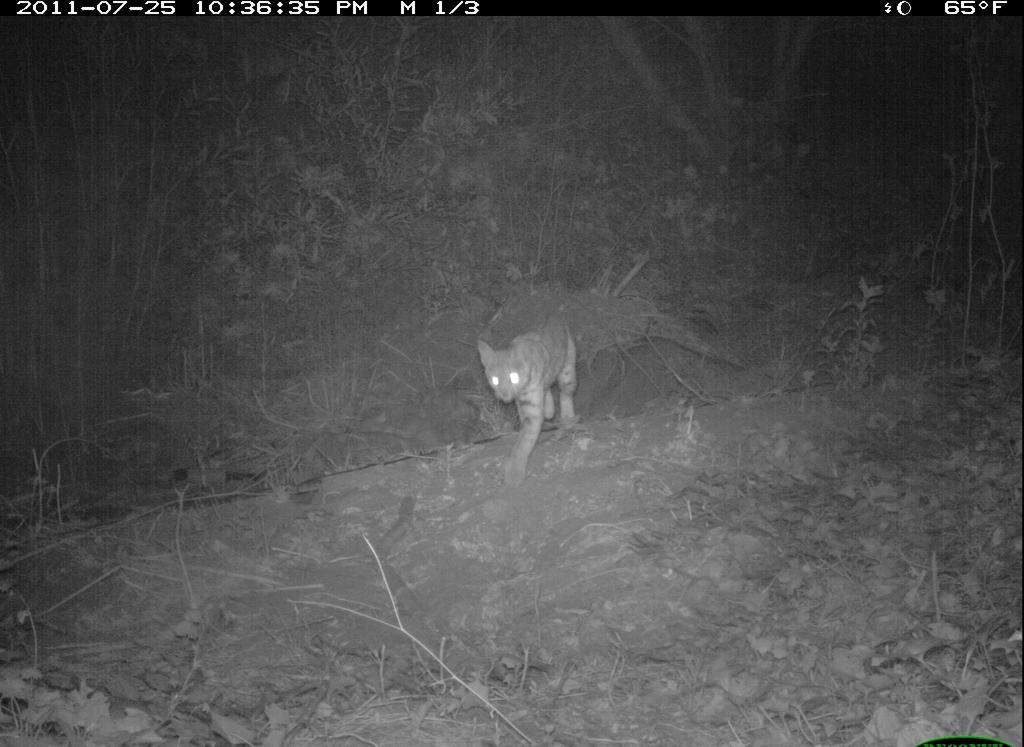bobcat: (473, 312, 584, 493)
